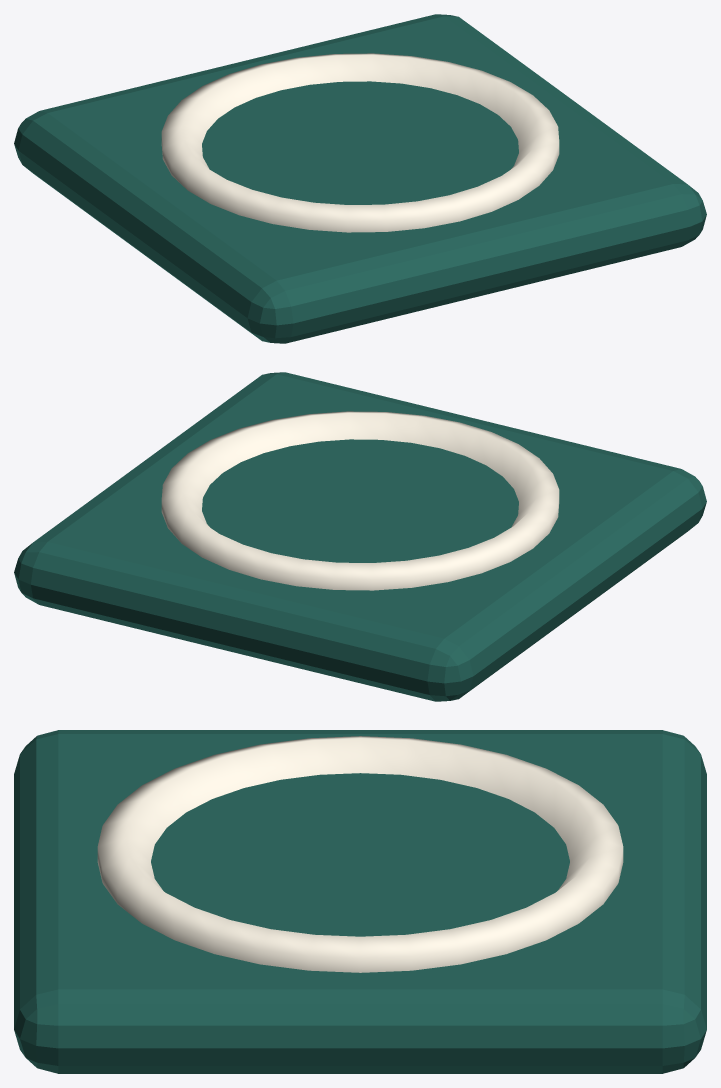
Rendered from switch_plate.glb.
3 renders of one model, top to bottom at view 1: azimuth 30°, elevation 25°; view 2: azimuth 150°, elevation 25°; view 3: azimuth 270°, elevation 25°, orthographic. The views are drawn at different scales.
Visible parts, largest first — view 1: Pressure plate, Ball seat; view 2: Pressure plate, Ball seat; view 3: Pressure plate, Ball seat.
Part boxes in pixels (<box>): Pressure plate: <box>14,14,706,343</box>; Ball seat: <box>161,53,559,232</box>; Pressure plate: <box>14,372,706,701</box>; Ball seat: <box>161,411,559,590</box>; Pressure plate: <box>14,730,706,1073</box>; Ball seat: <box>97,736,623,972</box>.
Bounding box in the file's own units: 0.39 × 0.065 × 0.39.
